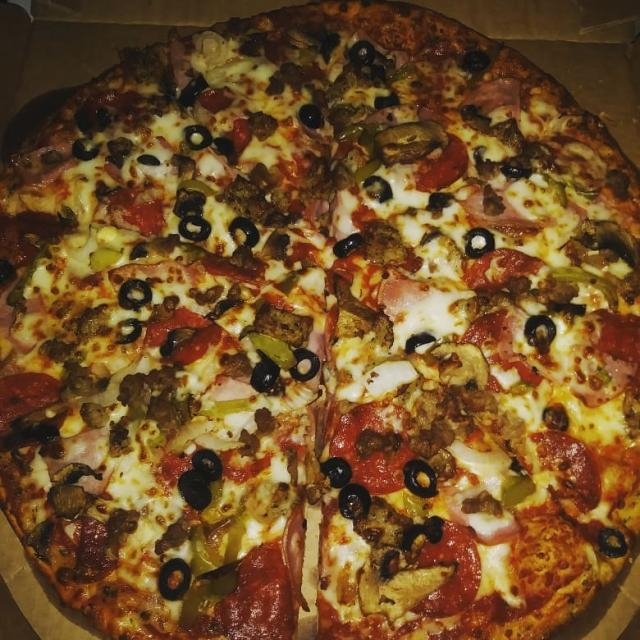black_olives: (178, 451, 226, 514), (346, 38, 384, 90), (157, 554, 198, 601), (241, 355, 279, 399), (71, 136, 132, 161), (525, 315, 562, 354), (118, 273, 154, 313), (458, 224, 494, 263), (288, 347, 322, 388), (406, 453, 438, 496), (332, 224, 366, 261), (595, 523, 626, 562), (542, 396, 568, 438), (223, 217, 259, 247), (363, 174, 399, 202), (178, 213, 210, 244), (109, 314, 139, 346), (174, 72, 202, 102), (185, 123, 216, 150), (296, 100, 319, 126)
mushrooms: (349, 544, 448, 632), (330, 271, 402, 370), (216, 176, 293, 240), (579, 213, 639, 276), (42, 458, 101, 521), (431, 332, 489, 396), (494, 120, 549, 182), (373, 122, 438, 168), (359, 213, 407, 268), (252, 303, 310, 348), (24, 518, 60, 556)
pepperoni: (387, 513, 484, 614), (328, 400, 427, 491), (200, 555, 305, 640), (517, 426, 602, 522), (152, 309, 243, 382), (2, 364, 72, 448), (582, 313, 634, 408), (404, 131, 467, 188), (466, 248, 533, 298), (104, 188, 169, 229)
pizza: (0, 0, 640, 640)
